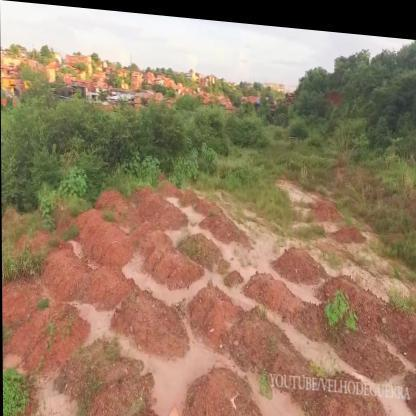agua: (143, 347, 194, 415), (258, 370, 323, 415)
